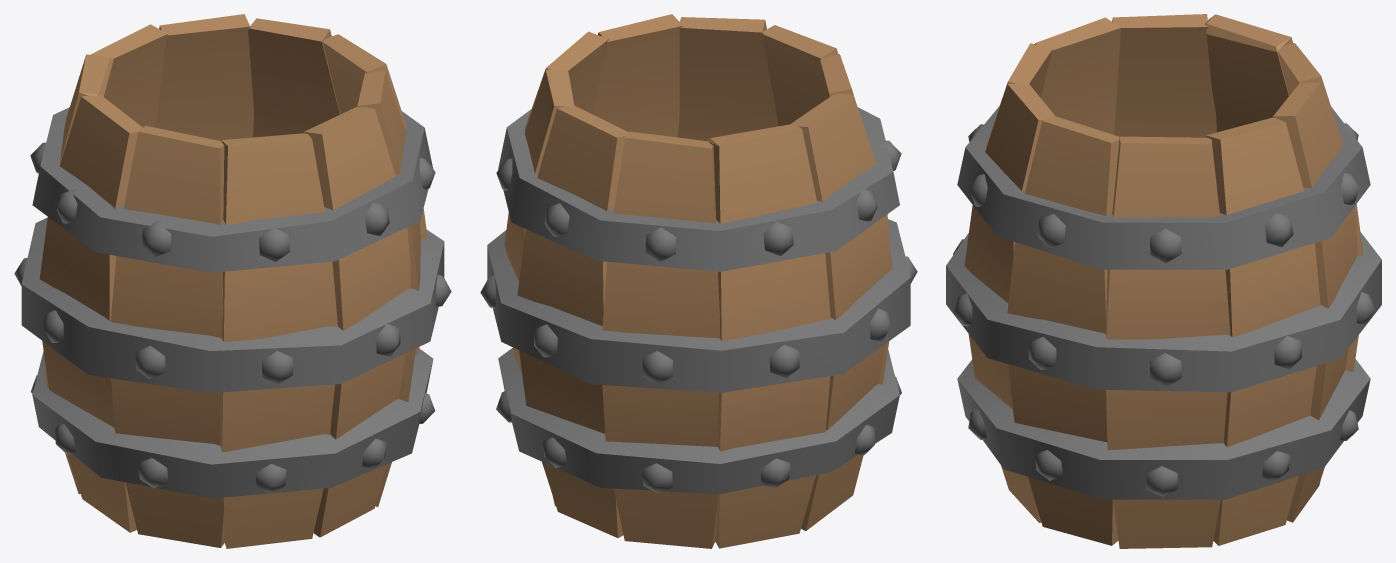
File: Barrel_D.fbx
3 renders of one model, left to right at view 1: azimuth 30°, elevation 25°; view 2: azimuth 150°, elevation 25°; view 3: azimuth 270°, elevation 25°, orthographic.
Parts seen in each view (by area): view 1: Barrel_D; view 2: Barrel_D; view 3: Barrel_D.
Part boxes in pixels (left/top/right/bottom): Barrel_D: left=14, top=14, right=451, bottom=548; Barrel_D: left=480, top=14, right=917, bottom=548; Barrel_D: left=946, top=14, right=1381, bottom=548.
Bounding box in the file's own units: 84.28 × 85.55 × 82.93.
